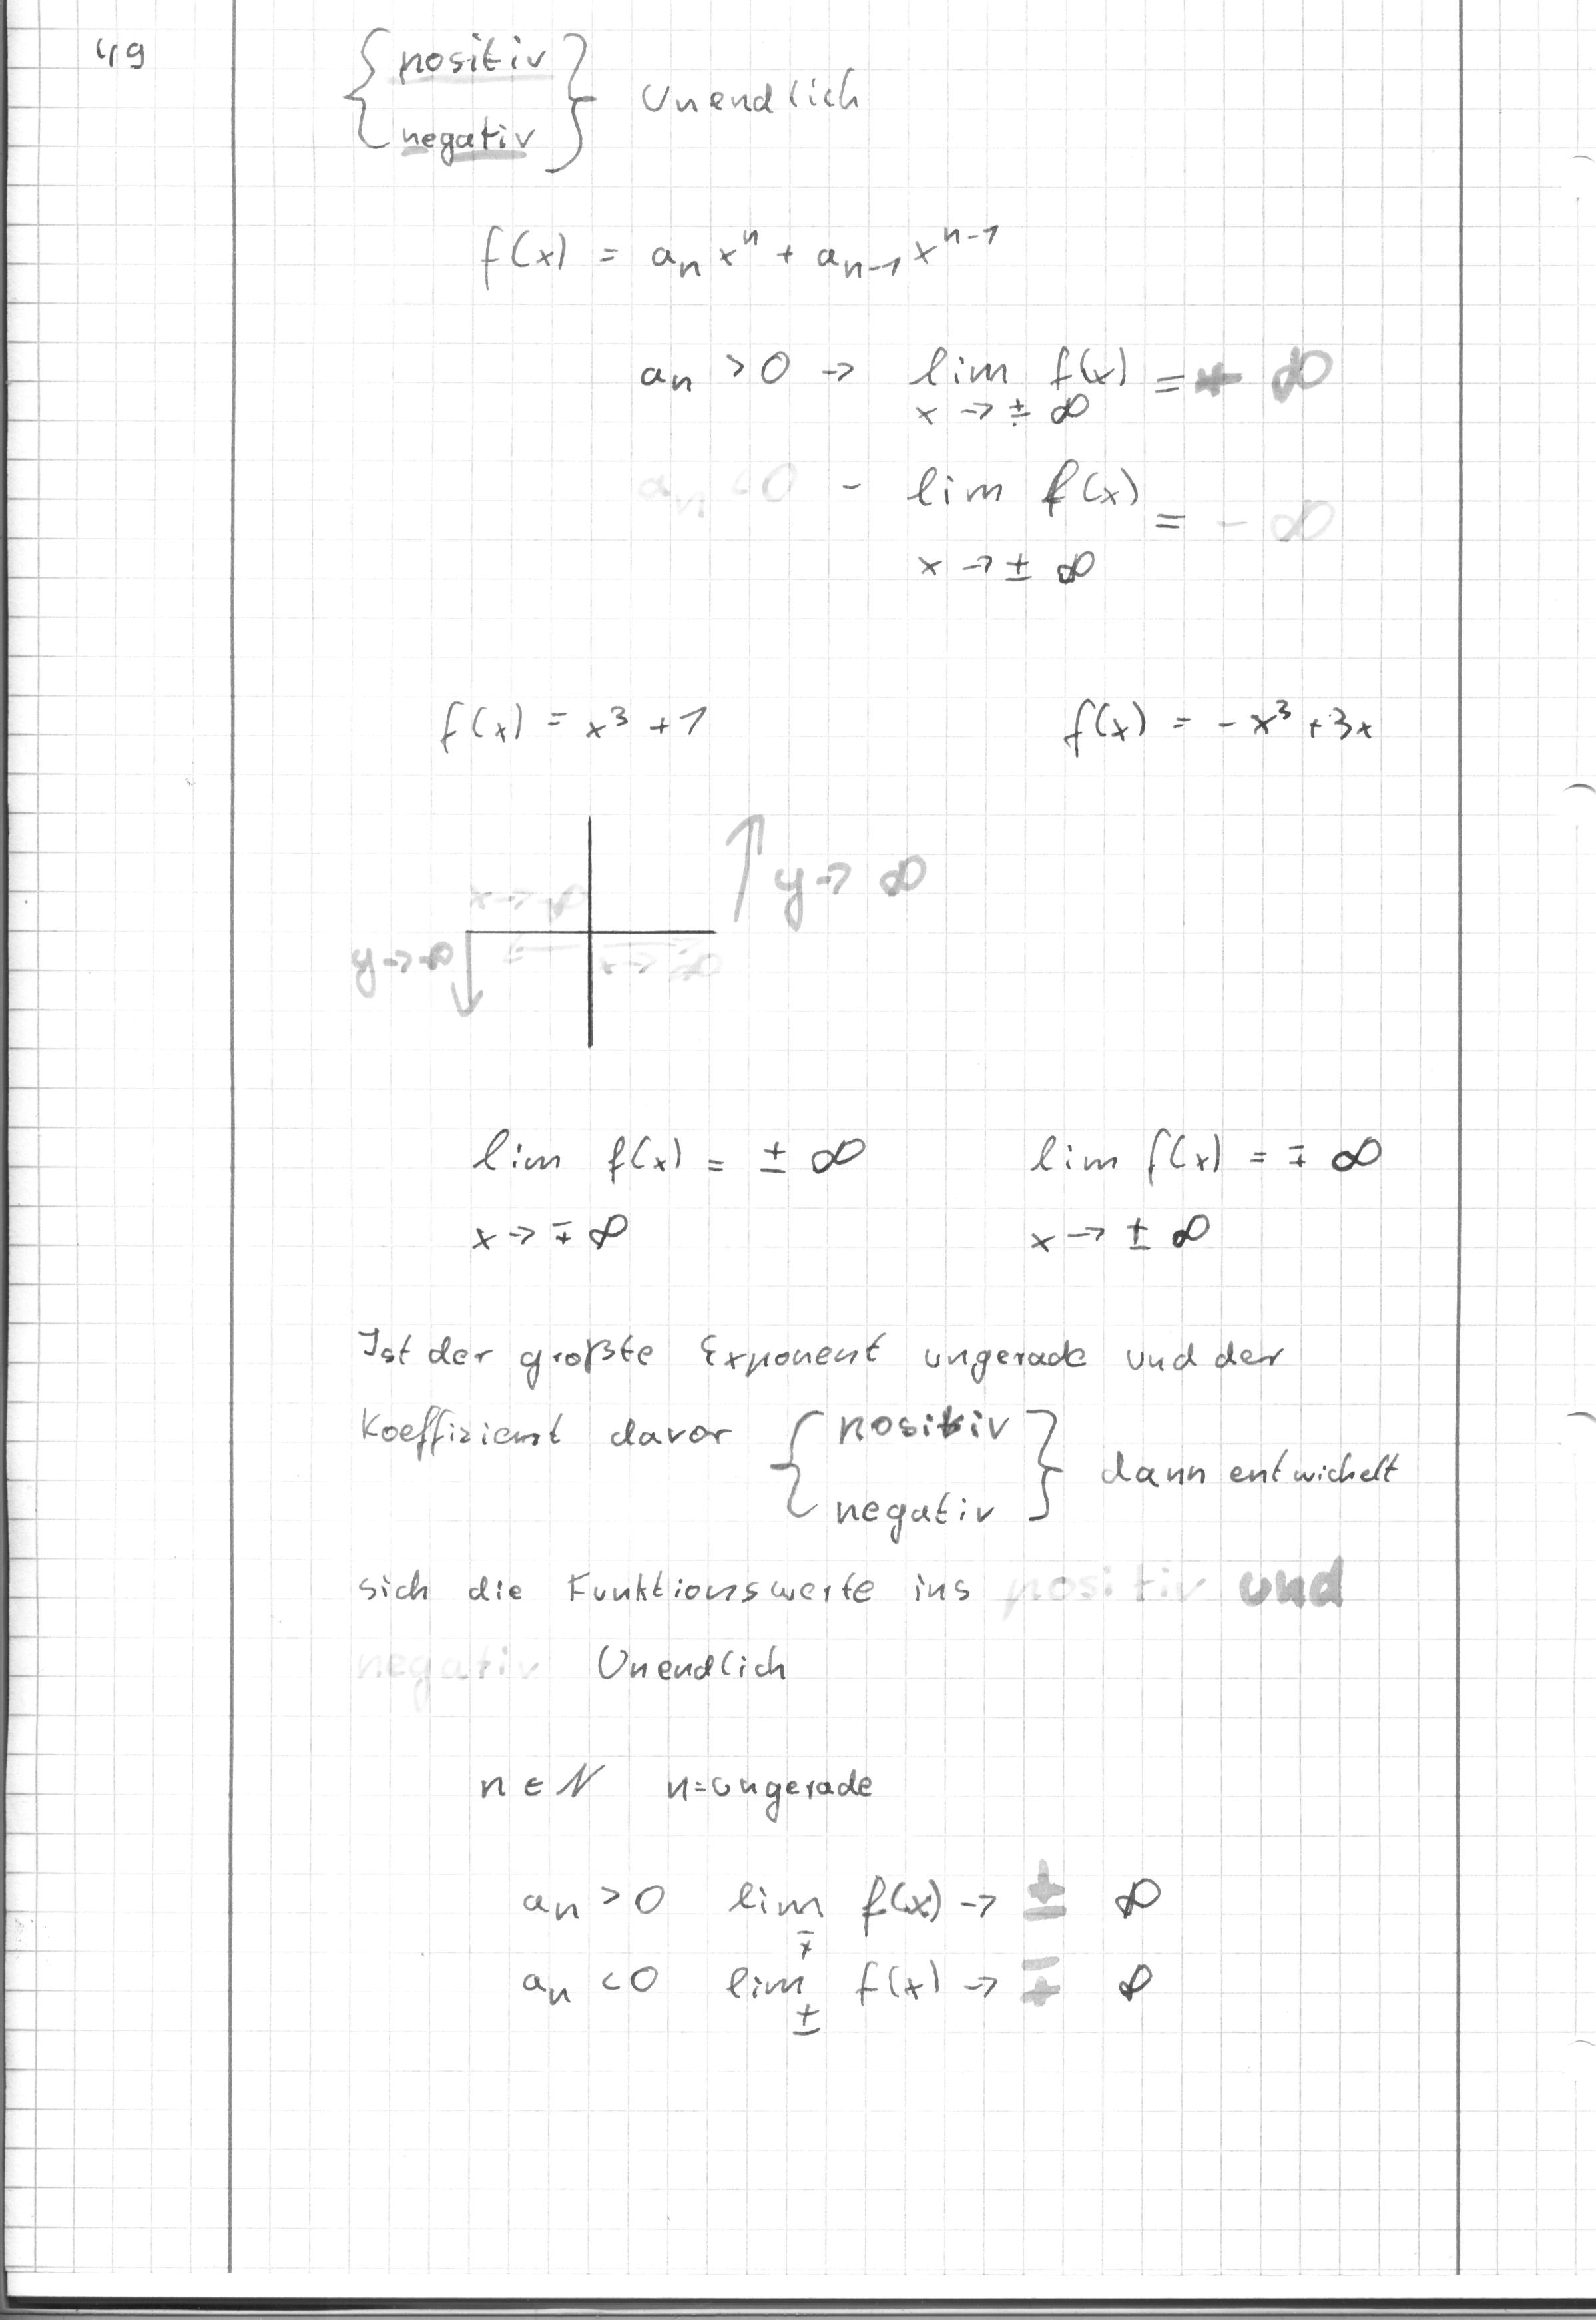word: (347, 1314, 1414, 1542), (510, 1861, 1009, 2053), (471, 192, 1023, 313), (634, 332, 1190, 447), (463, 1122, 872, 1260), (1016, 1116, 1388, 1263), (838, 455, 1191, 595), (350, 1554, 984, 1624), (463, 1743, 888, 1833), (1059, 676, 1383, 774), (425, 673, 727, 780), (392, 27, 553, 160), (631, 55, 886, 135), (585, 1628, 798, 1699), (1101, 1859, 1182, 2018)
